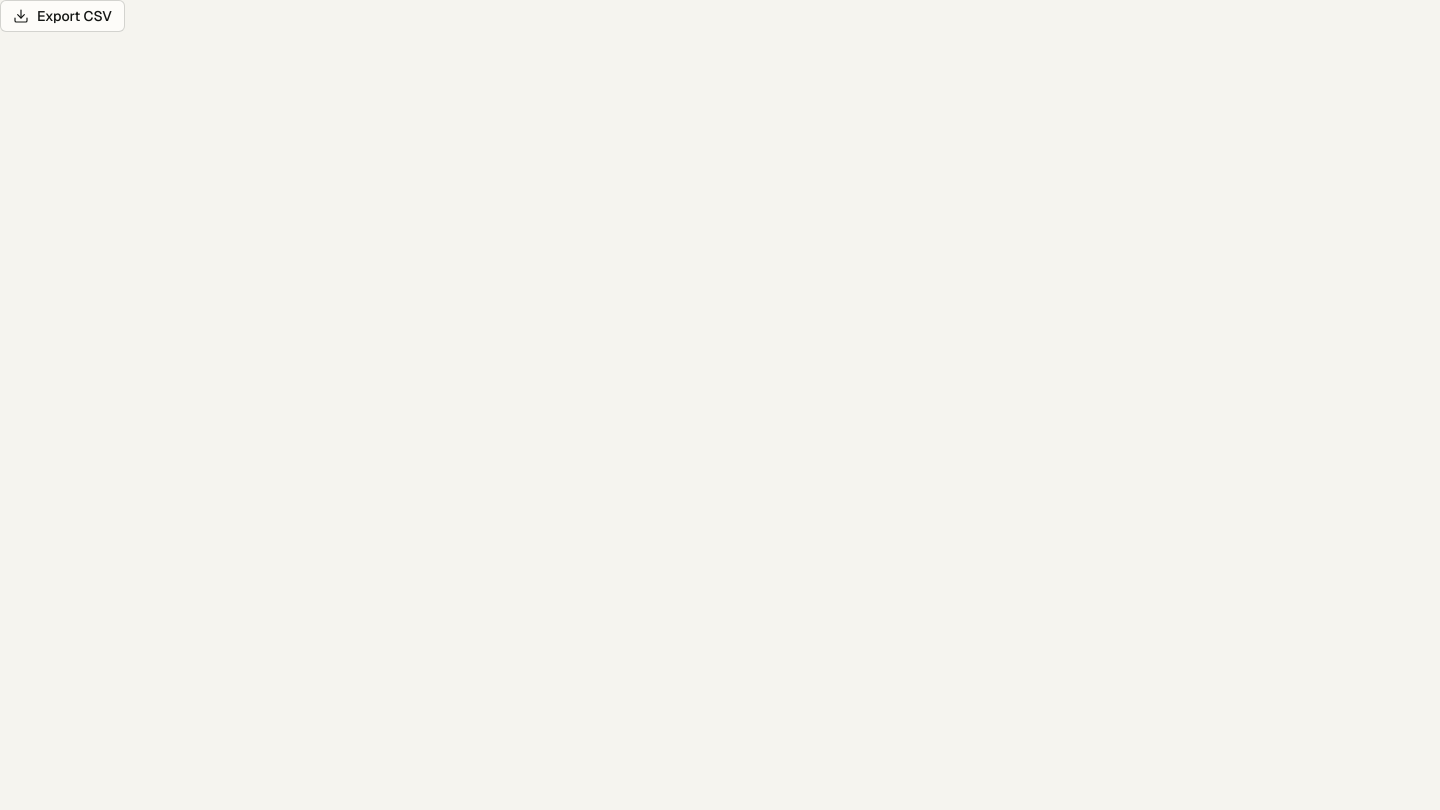
ExportButton › offers the first 5,000 when the export is over the cap
This screenshot has width=1440, height=810.
Click the button "Export CSV": (62, 16) x1=0 y1=0 x2=125 y2=32
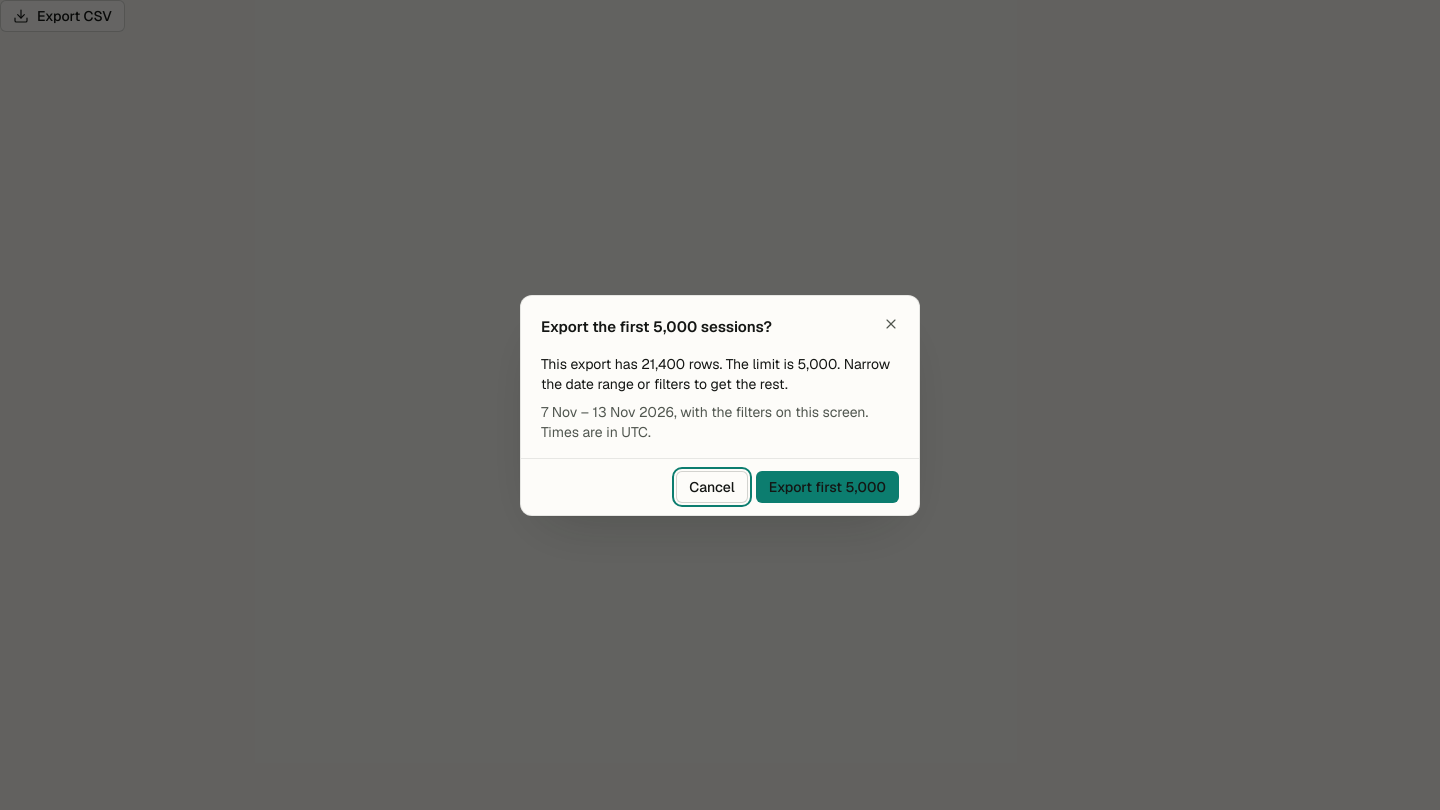
Expected: the text "This export has 21,400 rows. The limit is 5,000." is shown, x1=541 y1=354 x2=899 y2=394
Expected: the button "Export first 5,000" is shown, x1=756 y1=470 x2=899 y2=502
